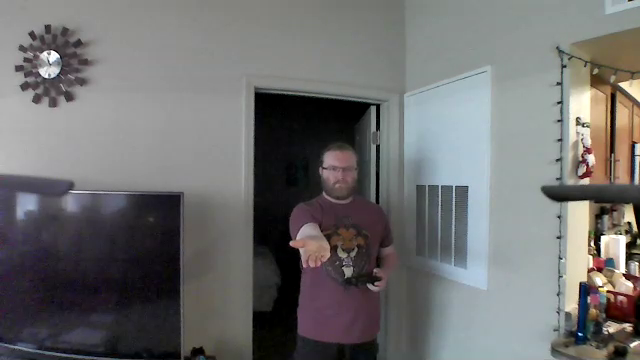land: (287, 232, 341, 273)
